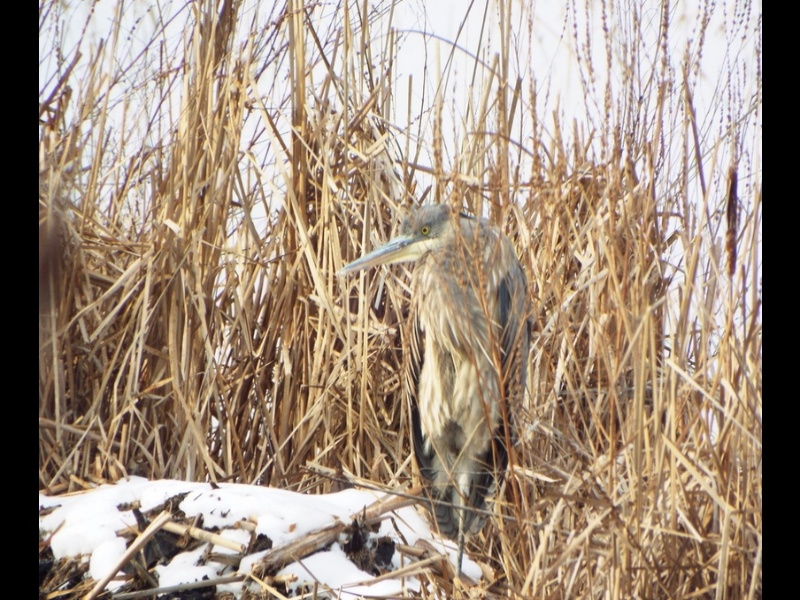heron: (338, 205, 533, 532)
